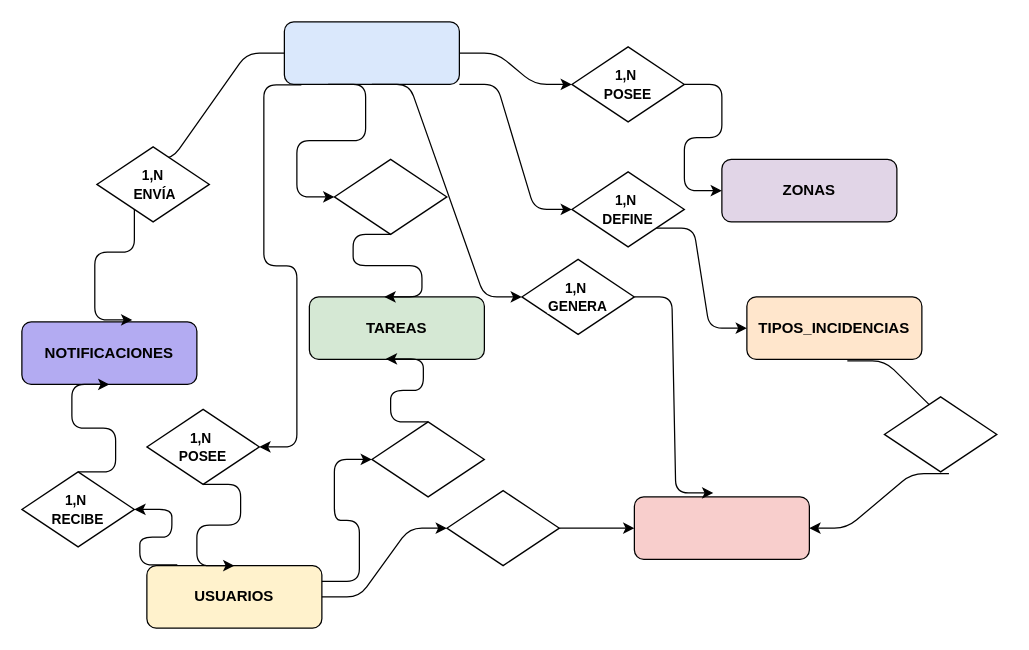
Some shapes in this 1029 by 650 pixel diagram are drawn without their labels. Each missing label, with the box of its shape:
1,N ASIGNA: (333, 158, 447, 234)
1,N CLASIFICA: (883, 396, 997, 472)
1,N EJECUTA: (371, 421, 484, 497)
1,N REPORTA: (446, 489, 559, 566)
ENTIDADES: (283, 21, 459, 84)
INCIDENCIAS: (633, 496, 809, 559)
